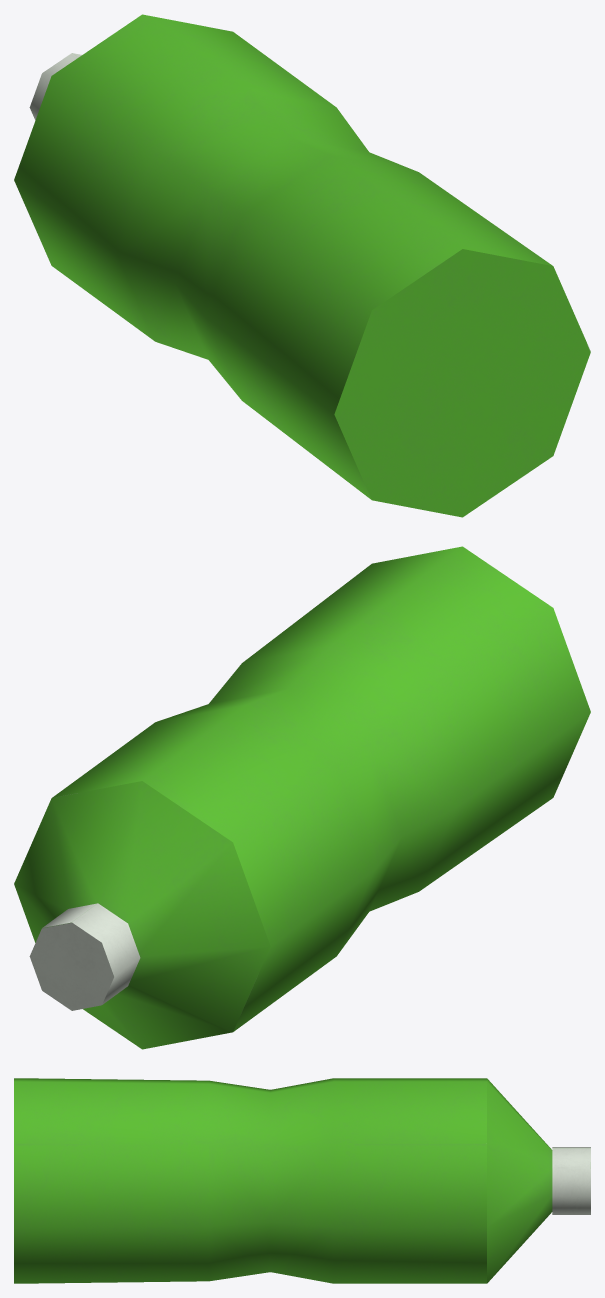
Rendered from HAL_MsPlastic.fbx.
3 renders of one model, top to bottom at view 1: azimuth 30°, elevation 25°; view 2: azimuth 150°, elevation 25°; view 3: azimuth 270°, elevation 25°, orthographic. The views are drawn at different scales.
Visible parts, largest first — view 1: Plastic; view 2: Plastic; view 3: Plastic.
Part boxes in pixels (x1=…): Plastic: x1=14, y1=14, x2=590, y2=517; Plastic: x1=14, y1=546, x2=590, y2=1049; Plastic: x1=14, y1=1078, x2=590, y2=1283.
Size of the model in its own units: 81.72 by 81.72 by 215.
1 material, 1 textured.
